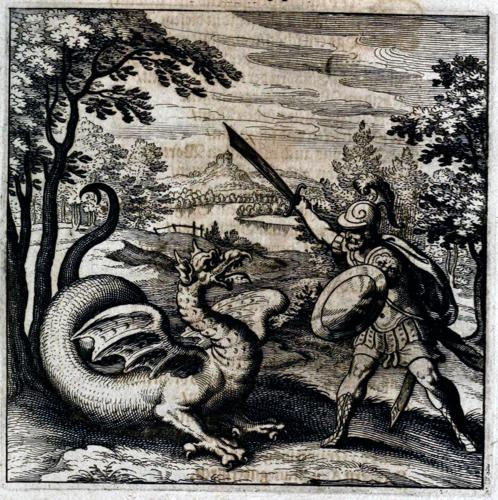dragon: (40, 176, 286, 468)
knight: (289, 177, 477, 451)
sword: (224, 121, 316, 221)
tree: (9, 7, 241, 402), (389, 52, 487, 346), (312, 118, 475, 289), (5, 110, 178, 232)
